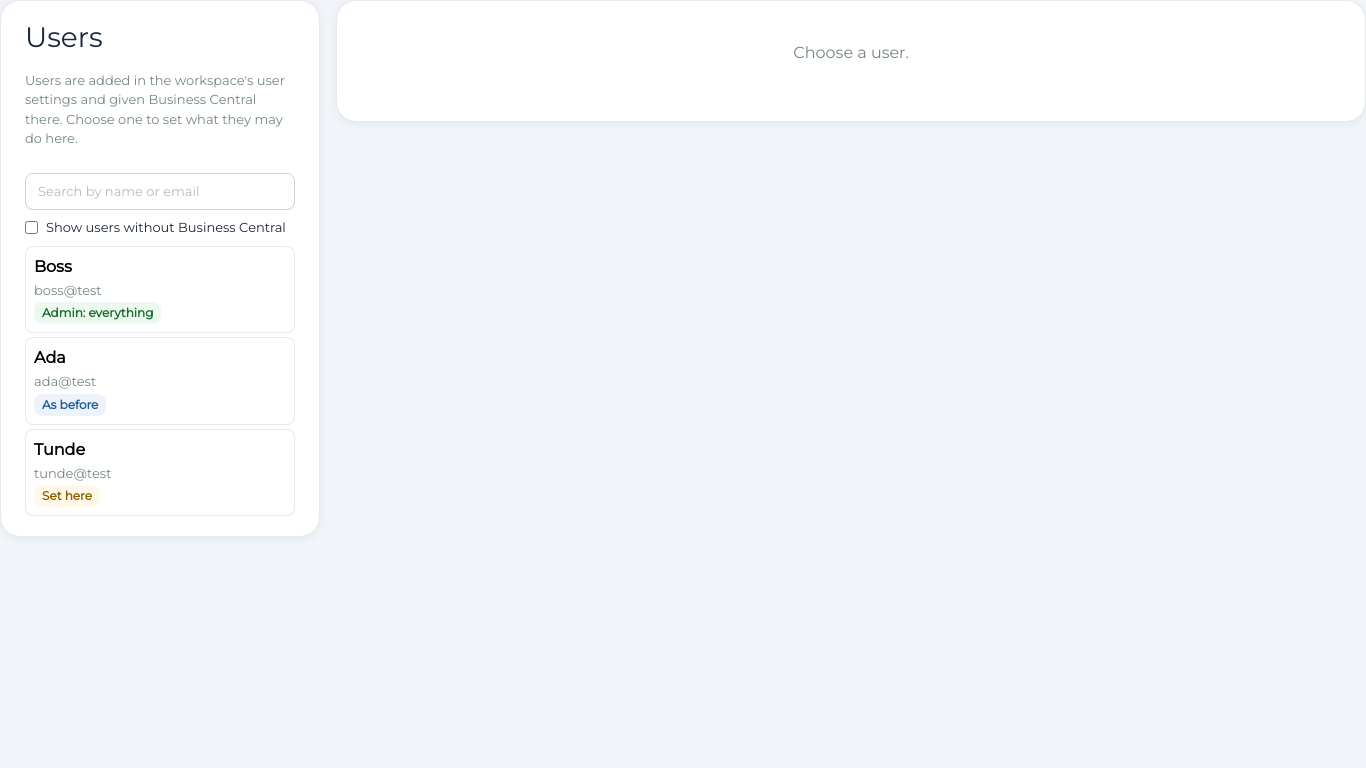
lists the users who have Business Central, with where their access stands
Expected: the button "Boss boss@test Admin: everything" is shown, x1=25 y1=246 x2=295 y2=333
Expected: the button "Ada ada@test As before" is shown, x1=25 y1=337 x2=295 y2=425
Step 1. Click the checkbox labelled "Show users without Business Central" → [32, 228], box x1=25 y1=221 x2=38 y2=234
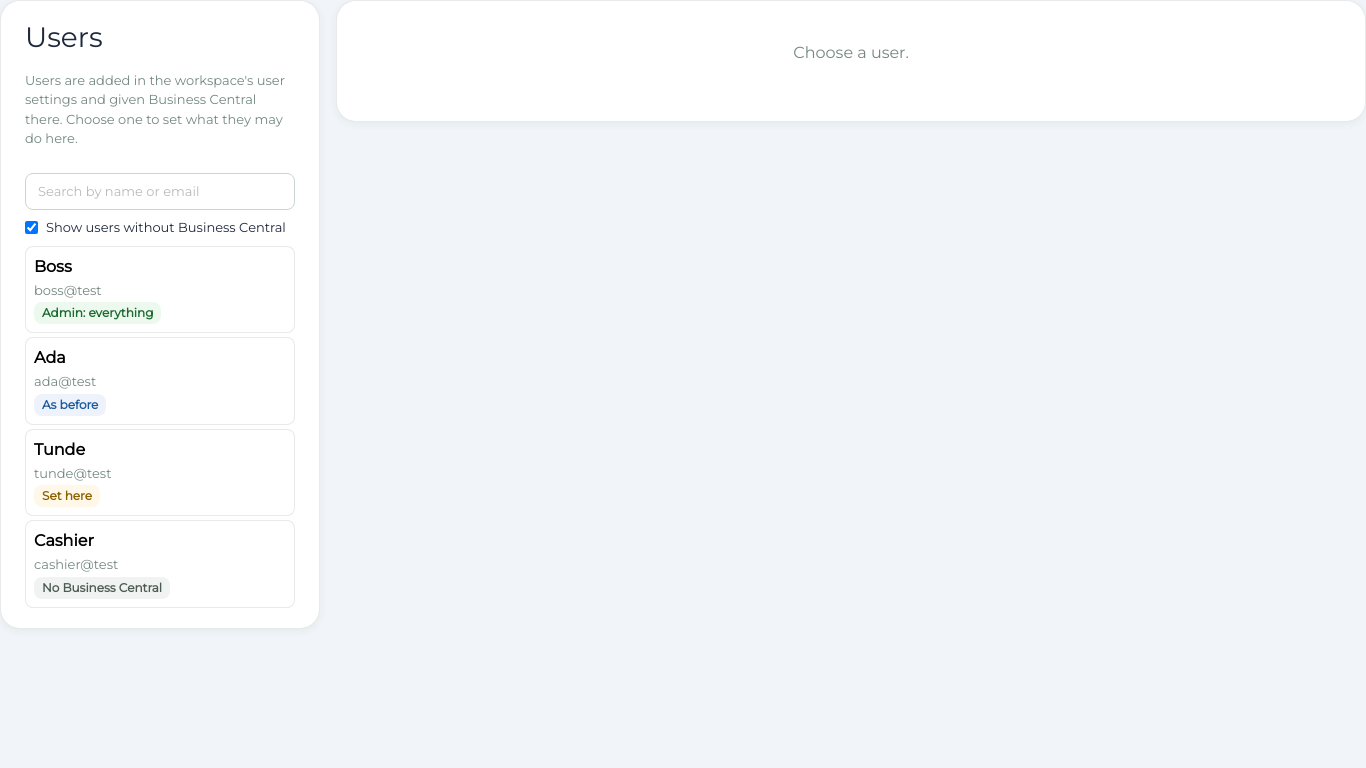
Expected: the button "Cashier cashier@test No Business Central" is shown, x1=25 y1=520 x2=295 y2=608
